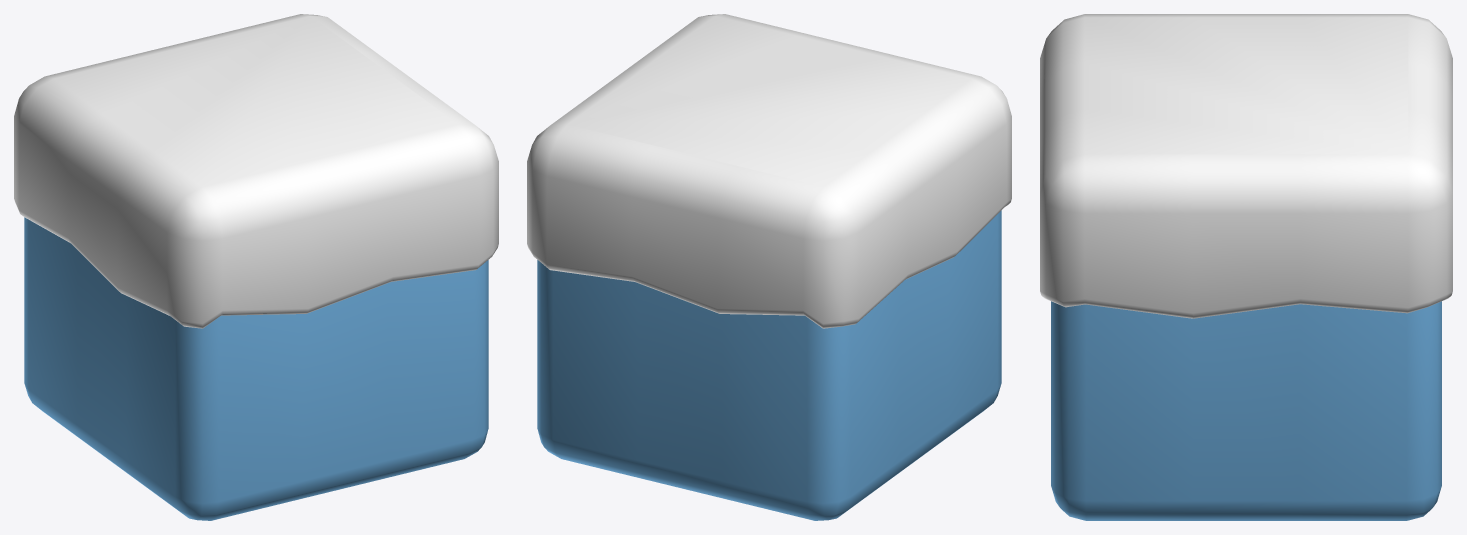
The model's file is Block_3.fbx.
3 renders of one model, left to right at view 1: azimuth 30°, elevation 25°; view 2: azimuth 150°, elevation 25°; view 3: azimuth 270°, elevation 25°, orthographic. The views are drawn at different scales.
Parts seen in each view (by area): view 1: Block_3; view 2: Block_3; view 3: Block_3.
Boxes of the visible parts, x1=… form: Block_3: x1=14, y1=14, x2=498, y2=520; Block_3: x1=527, y1=14, x2=1011, y2=520; Block_3: x1=1040, y1=14, x2=1452, y2=520.
Size of the model in its own units: 0.3759 by 0.3657 by 0.3759.
